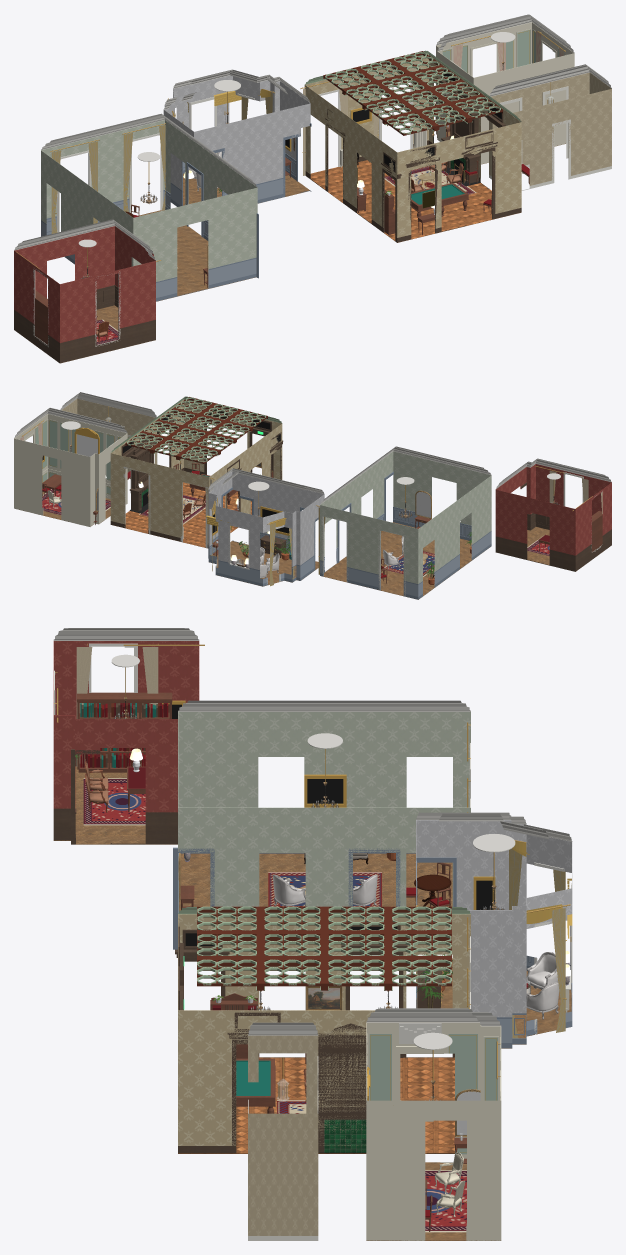
File: piece_salons.glb
The picture shows the model from 3 angles, top to bottom: view 1: azimuth 30°, elevation 25°; view 2: azimuth 150°, elevation 25°; view 3: azimuth 270°, elevation 25°; orthographic projection. The views are drawn at different scales.
Parts seen in each view (by area): view 1: salon_ouest_revetements, billard_revetements, piece_no_revetements, salon_revetements, degagement_est_revetements, salon_vert_revetements, billard_parquet, billard_poutres, salon_ouest_parquet, salon_ouest_rideaux, salon_ouest_corniche, billard_cheminee (+14 smaller); view 2: salon_ouest_revetements, billard_revetements, piece_no_revetements, salon_vert_revetements, salon_revetements, salon_ouest_parquet, billard_poutres, billard_parquet, degagement_est_revetements, billard_cheminee, salon_ouest_corniche, salon_parquet (+16 smaller); view 3: salon_ouest_revetements, salon_vert_revetements, billard_revetements, salon_revetements, piece_no_revetements, degagement_est_revetements, billard_cheminee, billard_parquet, billard_poutres, salon_ouest_parquet, piece_no_bibliotheque, salon_ouest_corniche (+17 smaller).
Part boxes in pixels (<box>): salon_ouest_revetements: <box>41,120,258,301</box>; billard_revetements: <box>304,54,521,242</box>; piece_no_revetements: <box>14,226,155,363</box>; salon_revetements: <box>163,75,311,206</box>; degagement_est_revetements: <box>489,72,611,190</box>; salon_vert_revetements: <box>436,22,574,164</box>; billard_parquet: <box>307,160,520,242</box>; billard_poutres: <box>342,58,484,131</box>; salon_ouest_parquet: <box>139,210,255,301</box>; salon_ouest_rideaux: <box>50,123,165,233</box>; salon_ouest_corniche: <box>41,113,257,187</box>; billard_cheminee: <box>441,89,480,186</box>; salon_ouest_revetements: <box>320,451,491,599</box>; billard_revetements: <box>110,399,283,548</box>; piece_no_revetements: <box>495,464,611,571</box>; salon_vert_revetements: <box>14,414,127,526</box>; salon_revetements: <box>208,472,324,586</box>; salon_ouest_parquet: <box>321,522,489,599</box>; billard_poutres: <box>140,402,252,460</box>; billard_parquet: <box>112,482,251,547</box>; degagement_est_revetements: <box>62,398,157,488</box>; billard_cheminee: <box>129,438,156,513</box>; salon_ouest_corniche: <box>320,446,491,504</box>; salon_parquet: <box>209,541,318,586</box>; salon_ouest_revetements: <box>173,712,470,949</box>; salon_vert_revetements: <box>366,1022,501,1240</box>; billard_revetements: <box>175,914,470,1153</box>; salon_revetements: <box>416,820,572,1048</box>; piece_no_revetements: <box>53,641,199,844</box>; degagement_est_revetements: <box>248,1035,318,1240</box>; billard_cheminee: <box>317,1023,366,1153</box>; billard_parquet: <box>178,1057,454,1153</box>; billard_poutres: <box>197,906,451,990</box>; salon_ouest_parquet: <box>178,853,452,910</box>; piece_no_bibliotheque: <box>77,692,172,772</box>; salon_ouest_corniche: <box>178,700,470,711</box>.
Size of the model in its own units: 31.6 by 5.01 by 14.6.
74 materials, 41 textured.
